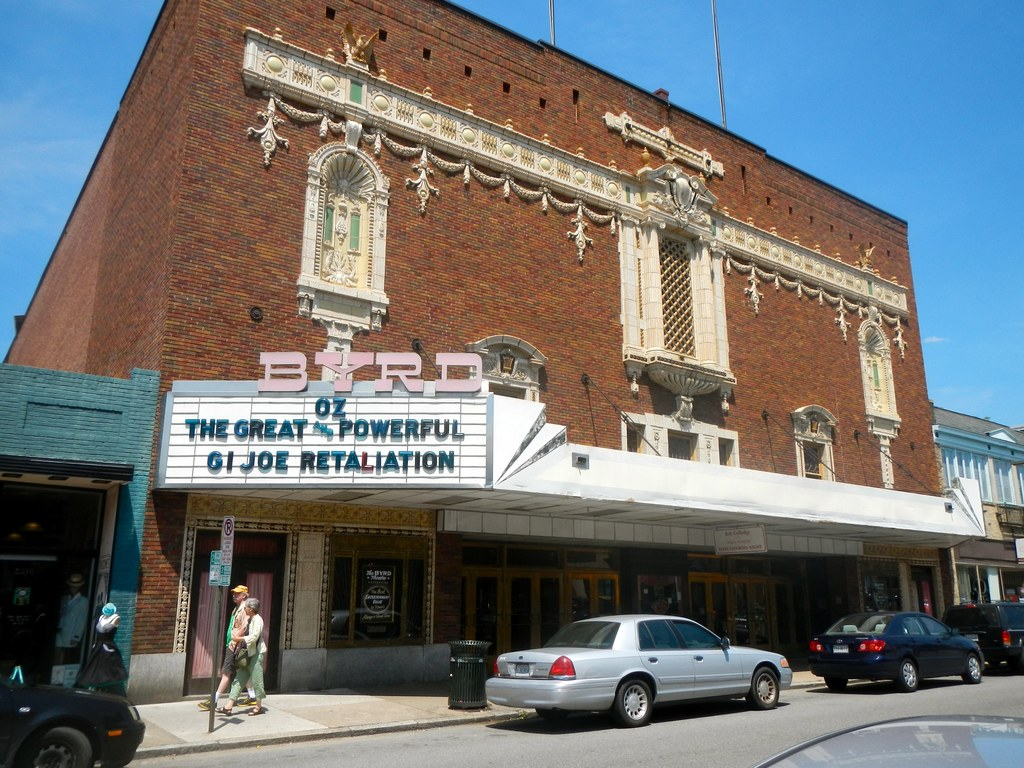Car: (478, 613, 792, 725), (812, 608, 985, 695), (758, 713, 1023, 767), (0, 676, 139, 767), (950, 603, 1020, 676)
